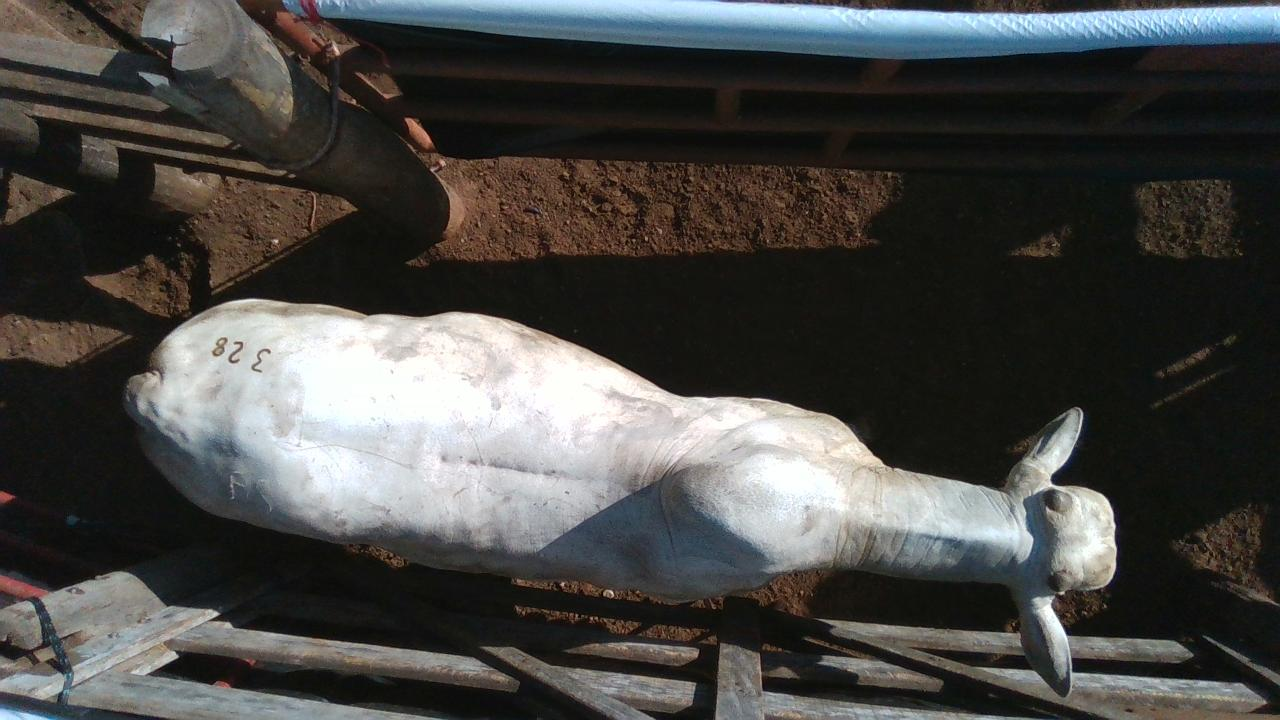cattle: (121, 295, 1119, 698)
